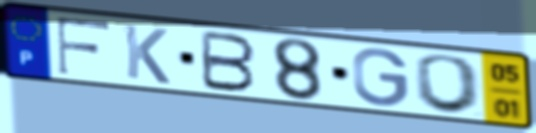8: (271, 36, 324, 103)
B: (199, 28, 259, 94)
F: (55, 16, 114, 77)
G: (350, 46, 411, 109)
K: (121, 22, 173, 87)
O: (413, 52, 485, 116)
